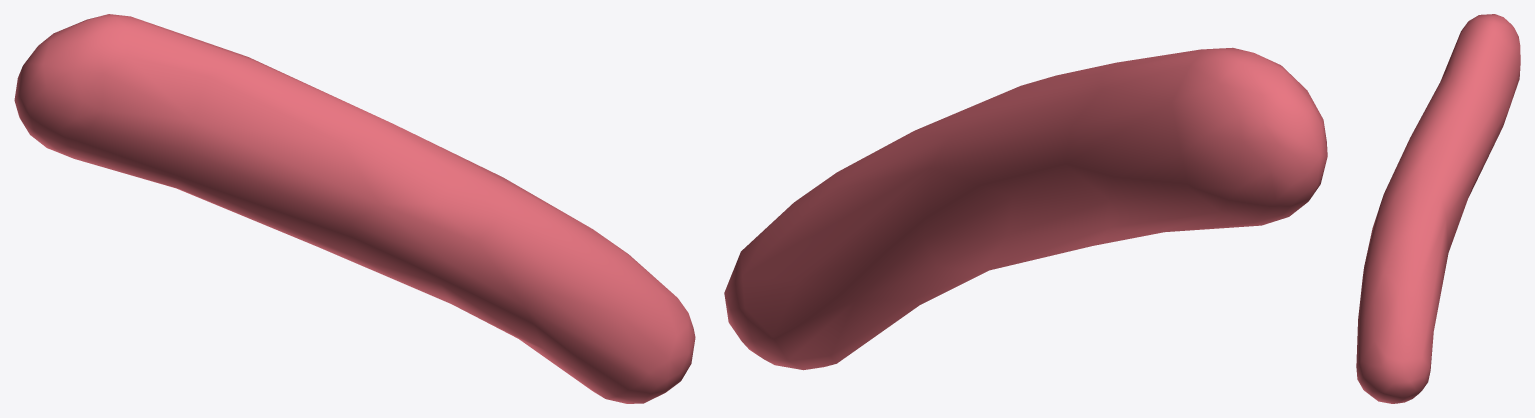
The model's file is fma50306_fj6019.glb.
3 views of the same model, side by side, from view 1: azimuth 30°, elevation 25°; view 2: azimuth 150°, elevation 25°; view 3: azimuth 270°, elevation 25° (orthographic). The views are drawn at different scales.
Parts seen in each view (by area): view 1: FMA50306_FJ6019; view 2: FMA50306_FJ6019; view 3: FMA50306_FJ6019.
Boxes of the visible parts, x1,y1,x2,y2 form: FMA50306_FJ6019: (14, 14, 695, 403); FMA50306_FJ6019: (724, 47, 1327, 370); FMA50306_FJ6019: (1356, 14, 1520, 403).
Bounding box in the file's own units: 0.0277 × 0.0195 × 0.0115.
